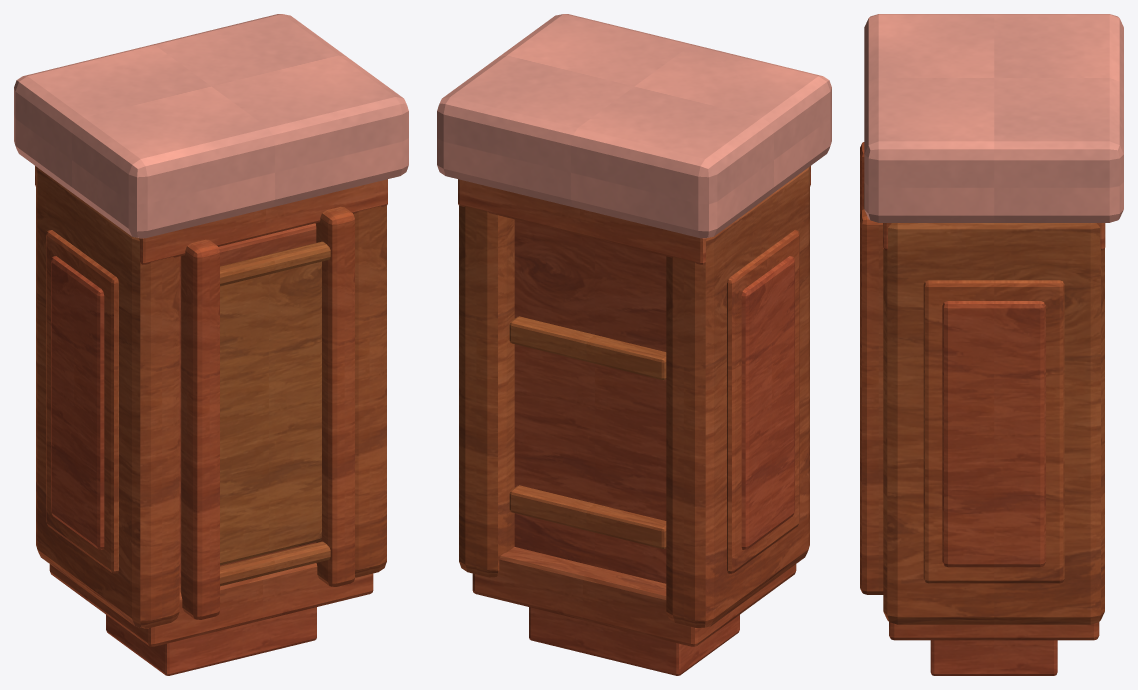
File: WC_CAFE_Counter_Short_A.glb
3 views of the same model, side by side, from view 1: azimuth 30°, elevation 25°; view 2: azimuth 150°, elevation 25°; view 3: azimuth 270°, elevation 25° (orthographic). The views are drawn at different scales.
Parts seen in each view (by area): view 1: WC_CAFE_Counter_Short_A_DesignedMesh; view 2: WC_CAFE_Counter_Short_A_DesignedMesh; view 3: WC_CAFE_Counter_Short_A_DesignedMesh.
Boxes of the visible parts, box(x1,y1,x2,y2) form: WC_CAFE_Counter_Short_A_DesignedMesh: box(14, 14, 408, 675); WC_CAFE_Counter_Short_A_DesignedMesh: box(437, 14, 831, 675); WC_CAFE_Counter_Short_A_DesignedMesh: box(860, 14, 1123, 675).
Size of the model in its own units: 0.57 by 1.08 by 0.4575.
4 materials, 4 textured.
